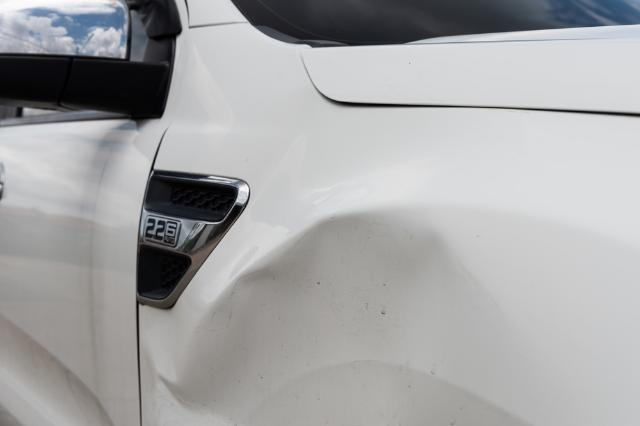dent: (150, 214, 613, 426)
